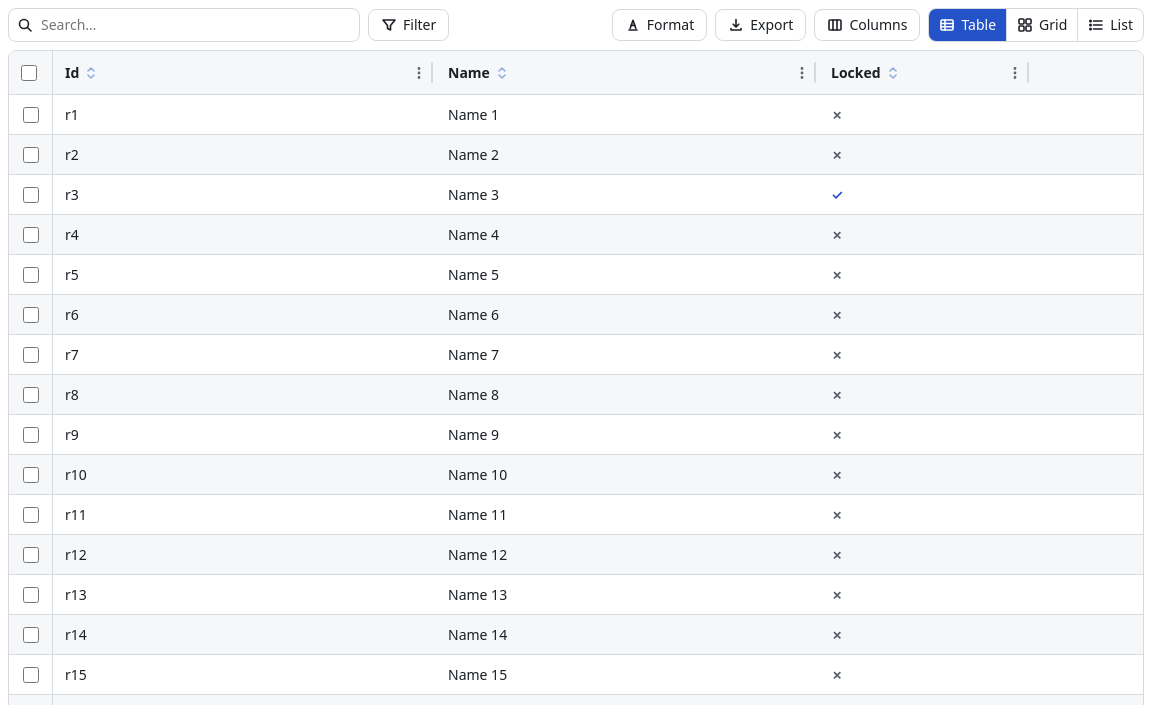
Test: US5: select records and act on them › server mode: select all covers the loaded rows and says so
The image size is (1152, 705).
Click the checkbox named "Select all" at [29, 72], box 21,64 -> 37,80
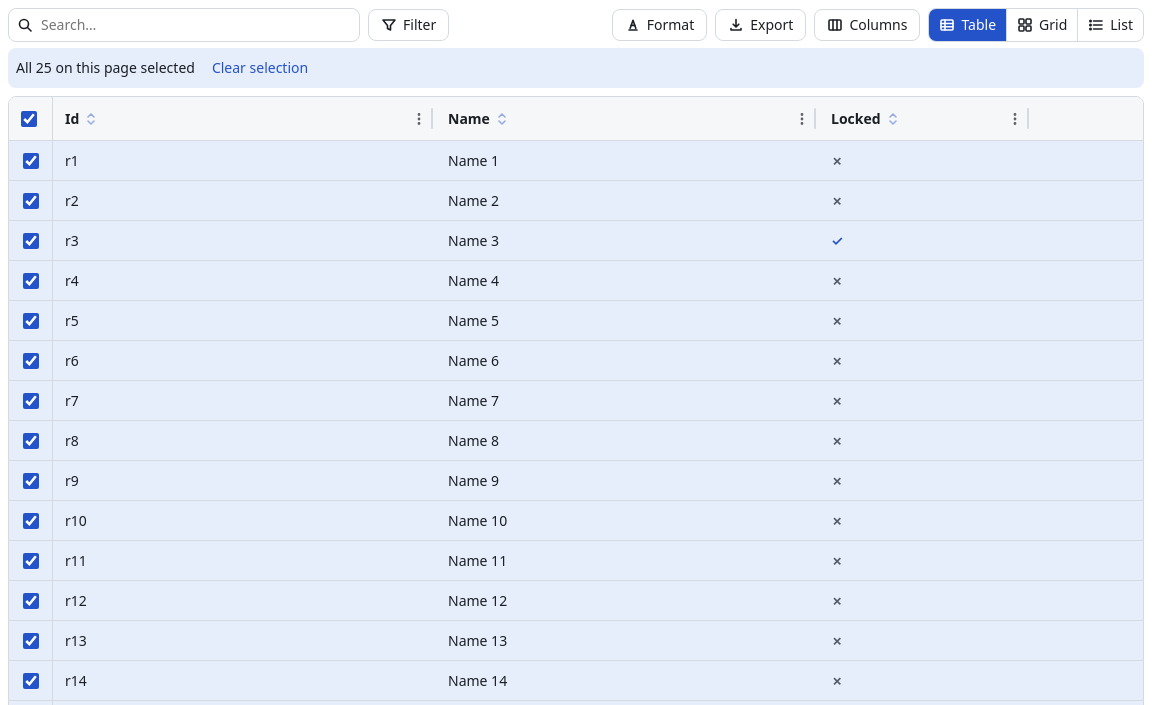
Now the text "All 25 on this page selected" is shown, box 16,58 -> 195,78
